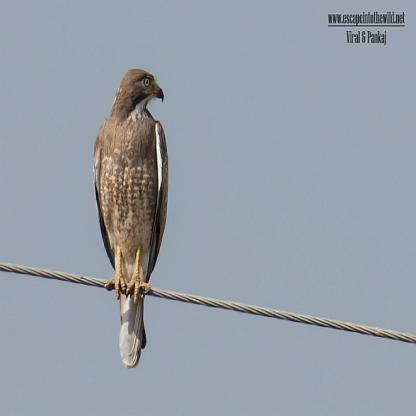Burung: (83, 65, 171, 380)
